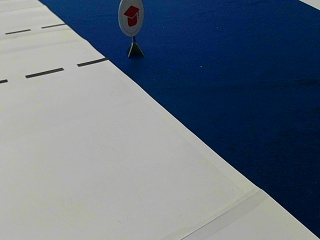school: (117, 1, 145, 35)
